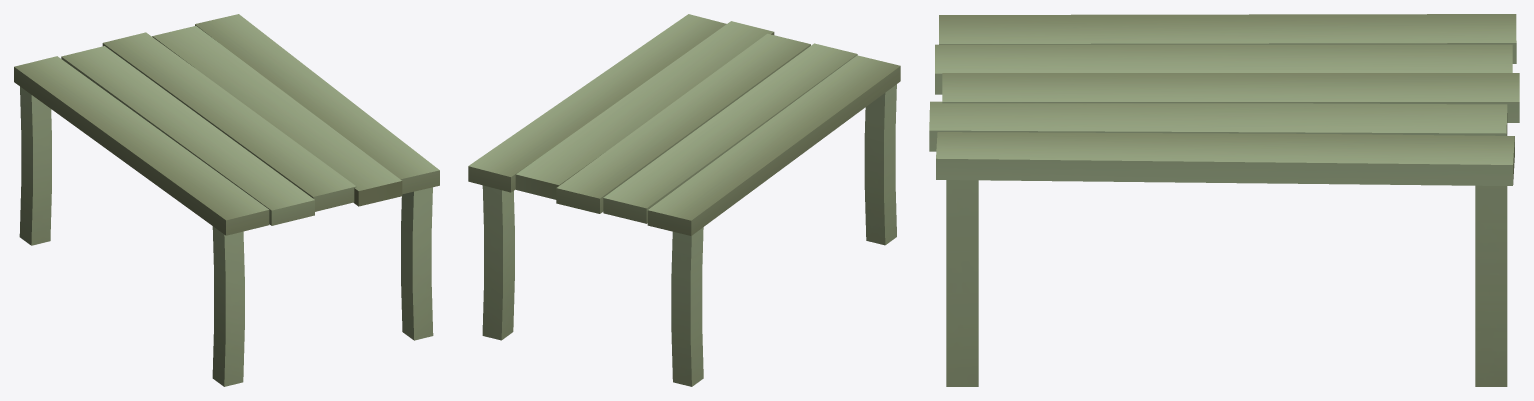
The model's file is FBX_MESA2.fbx.
3 views of the same model, side by side, from view 1: azimuth 30°, elevation 25°; view 2: azimuth 150°, elevation 25°; view 3: azimuth 270°, elevation 25° (orthographic). The views are drawn at different scales.
Parts seen in each view (by area): view 1: Msh_Mesa006, Msh_Mesa005, Msh_Mesa004, Msh_Mesa003, Msh_Mesa002, Msh_Mesa007, Msh_Mesa001, Msh_Mesa008; view 2: Msh_Mesa006, Msh_Mesa004, Msh_Mesa005, Msh_Mesa003, Msh_Mesa002, Msh_Mesa008, Msh_Mesa000, Msh_Mesa007; view 3: Msh_Mesa002, Msh_Mesa004, Msh_Mesa003, Msh_Mesa006, Msh_Mesa005, Msh_Mesa001, Msh_Mesa000.
Part boxes in pixels (bbox=[...]): Msh_Mesa006: bbox=[14, 56, 269, 235]; Msh_Mesa005: bbox=[61, 46, 314, 225]; Msh_Mesa004: bbox=[102, 32, 356, 211]; Msh_Mesa003: bbox=[152, 26, 402, 206]; Msh_Mesa002: bbox=[195, 14, 439, 194]; Msh_Mesa007: bbox=[212, 226, 244, 386]; Msh_Mesa001: bbox=[401, 187, 433, 340]; Msh_Mesa008: bbox=[19, 86, 51, 245]; Msh_Mesa006: bbox=[647, 55, 900, 235]; Msh_Mesa004: bbox=[556, 33, 810, 213]; Msh_Mesa005: bbox=[603, 43, 857, 223]; Msh_Mesa003: bbox=[515, 21, 774, 199]; Msh_Mesa002: bbox=[468, 14, 726, 192]; Msh_Mesa008: bbox=[671, 227, 703, 386]; Msh_Mesa000: bbox=[482, 185, 514, 340]; Msh_Mesa007: bbox=[864, 84, 896, 245]; Msh_Mesa002: bbox=[936, 132, 1514, 185]; Msh_Mesa004: bbox=[942, 73, 1519, 122]; Msh_Mesa003: bbox=[929, 101, 1507, 151]; Msh_Mesa006: bbox=[939, 14, 1516, 63]; Msh_Mesa005: bbox=[935, 44, 1512, 94]; Msh_Mesa001: bbox=[946, 180, 978, 386]; Msh_Mesa000: bbox=[1475, 185, 1507, 386].
Bounding box in the file's own units: 742 × 538 × 1237.
1 material, 1 textured.
